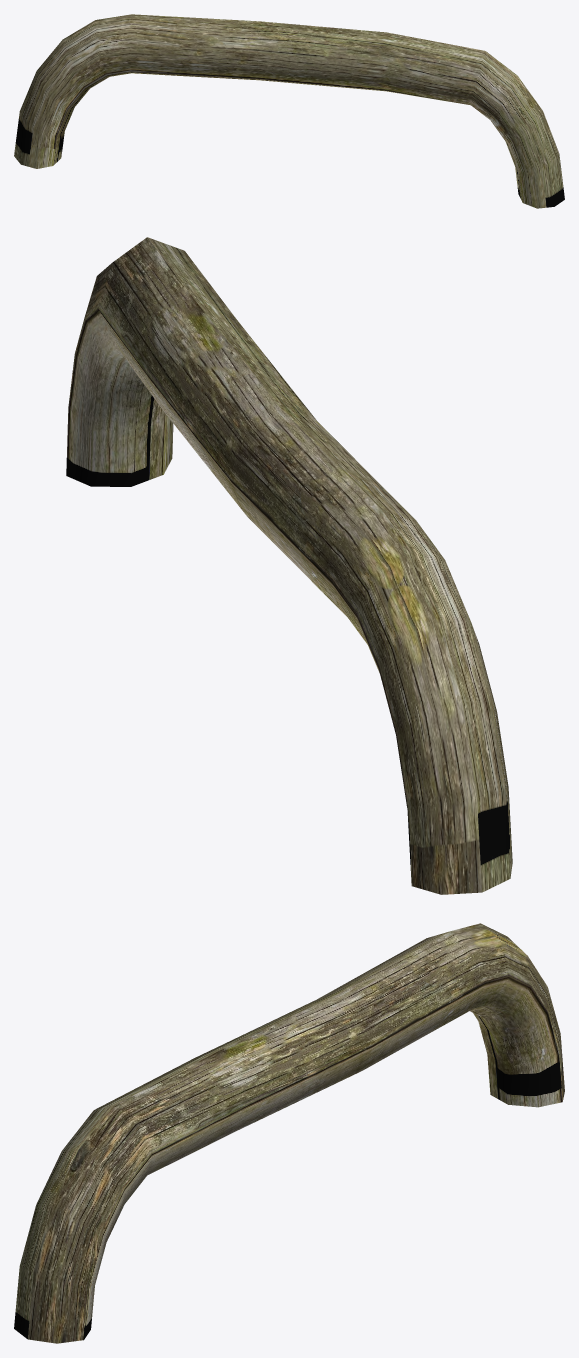
Rendered from round pipe colider.fbx.
3 views of the same model, one above another, from view 1: azimuth 30°, elevation 25°; view 2: azimuth 150°, elevation 25°; view 3: azimuth 270°, elevation 25° (orthographic). The views are drawn at different scales.
Visible parts, largest first — view 1: pipe__23_; view 2: pipe__23_; view 3: pipe__23_.
Boxes of the visible parts, bbox=[...] form: pipe__23_: bbox=[14, 14, 564, 208]; pipe__23_: bbox=[66, 237, 512, 894]; pipe__23_: bbox=[14, 923, 564, 1343].
Bounding box in the file's own units: 111 × 40.92 × 97.52.
